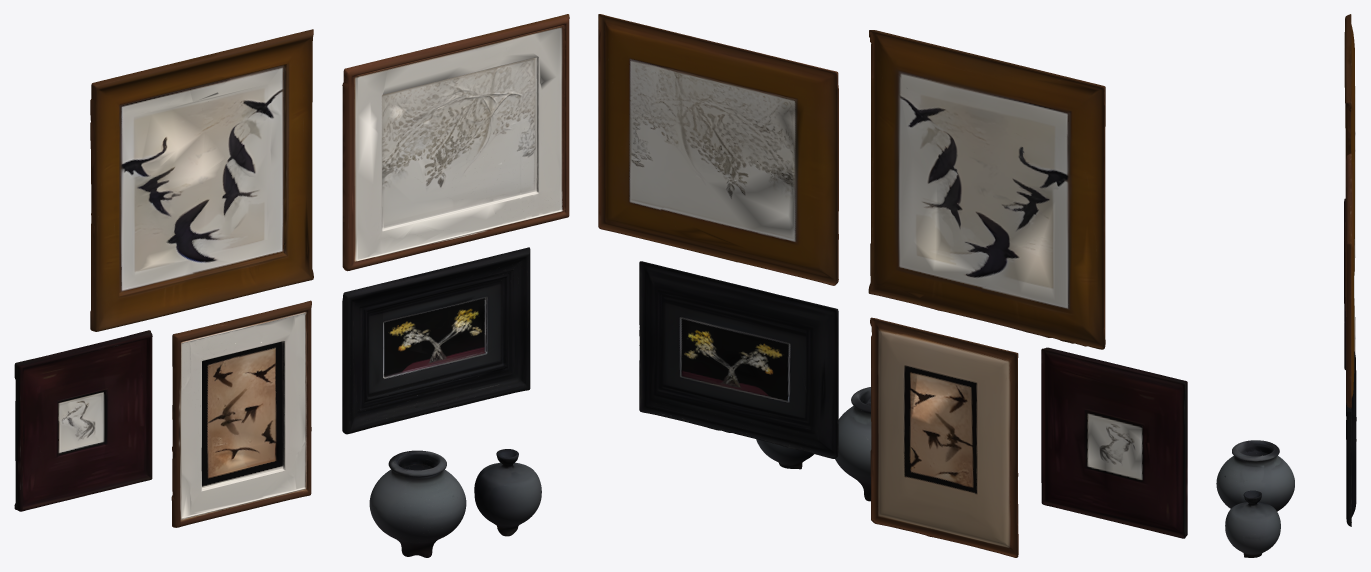
File: decor-art.optimized.glb
3 views of the same model, side by side, from view 1: azimuth 30°, elevation 25°; view 2: azimuth 150°, elevation 25°; view 3: azimuth 270°, elevation 25° (orthographic). The views are drawn at different scales.
Visible parts, largest first — view 1: node_0; view 2: node_0; view 3: node_0.
Boxes of the visible parts, x1=… form: node_0: x1=14, y1=14, x2=569, y2=557; node_0: x1=598, y1=14, x2=1187, y2=557; node_0: x1=1216, y1=14, x2=1356, y2=557.
Bounding box in the file's own units: 0.9721 × 0.8263 × 0.2595.
Materials: 1 (1 with a texture image).
